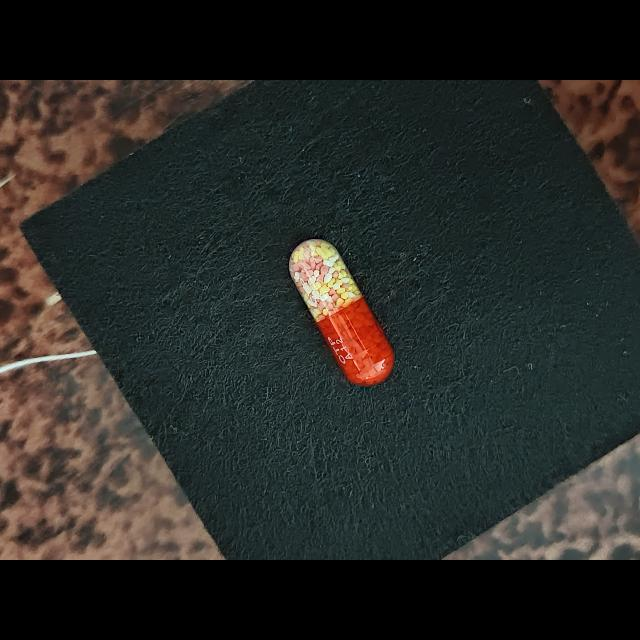Intact Capsule: (289, 239, 394, 386)
